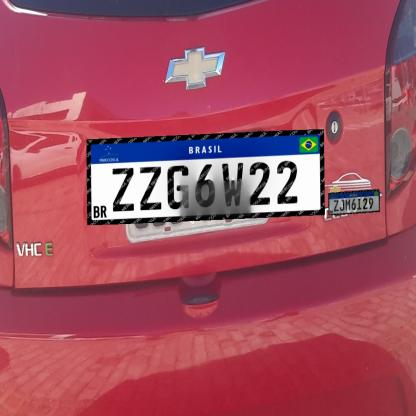PlacaM: (86, 129, 325, 225), (328, 190, 380, 216)
